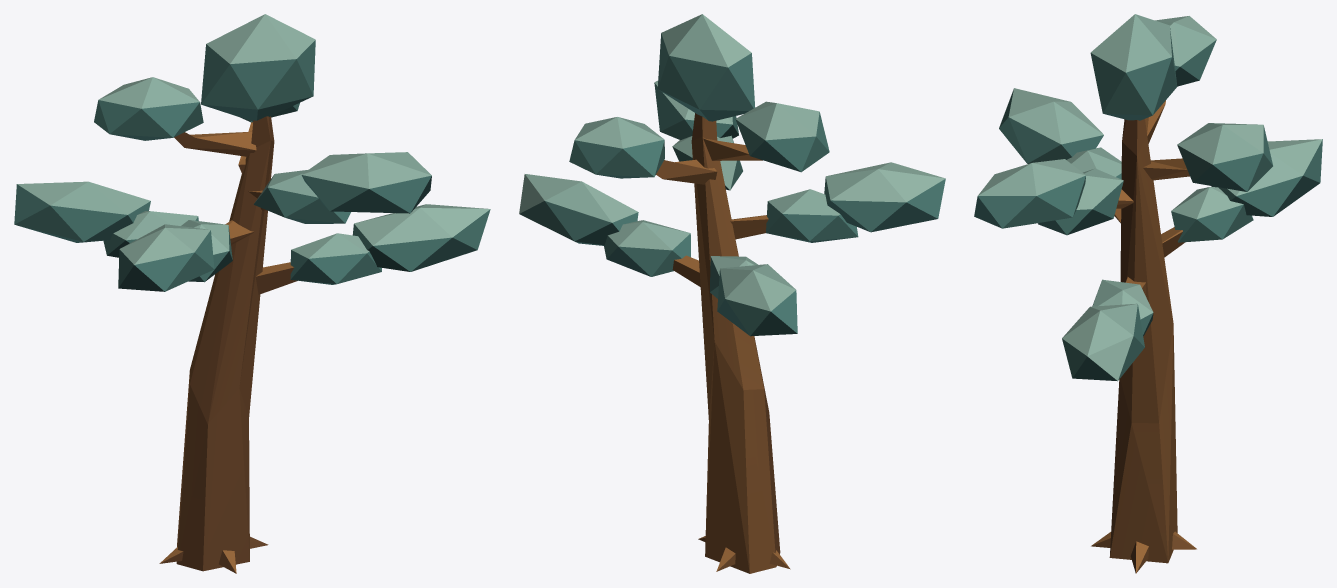
The picture shows the model from 3 angles, left to right: view 1: azimuth 30°, elevation 25°; view 2: azimuth 150°, elevation 25°; view 3: azimuth 270°, elevation 25°; orthographic projection. The views are drawn at different scales.
Parts seen in each view (by area): view 1: WK_Tree_Pine_WindblownBlue_LOD1_Balanced; view 2: WK_Tree_Pine_WindblownBlue_LOD1_Balanced; view 3: WK_Tree_Pine_WindblownBlue_LOD1_Balanced.
Boxes of the visible parts, x1,y1,x2,y2 form: WK_Tree_Pine_WindblownBlue_LOD1_Balanced: [14, 14, 490, 573]; WK_Tree_Pine_WindblownBlue_LOD1_Balanced: [519, 14, 945, 573]; WK_Tree_Pine_WindblownBlue_LOD1_Balanced: [974, 14, 1322, 573].
Bounding box in the file's own units: 5.4 × 6.99 × 3.94.
